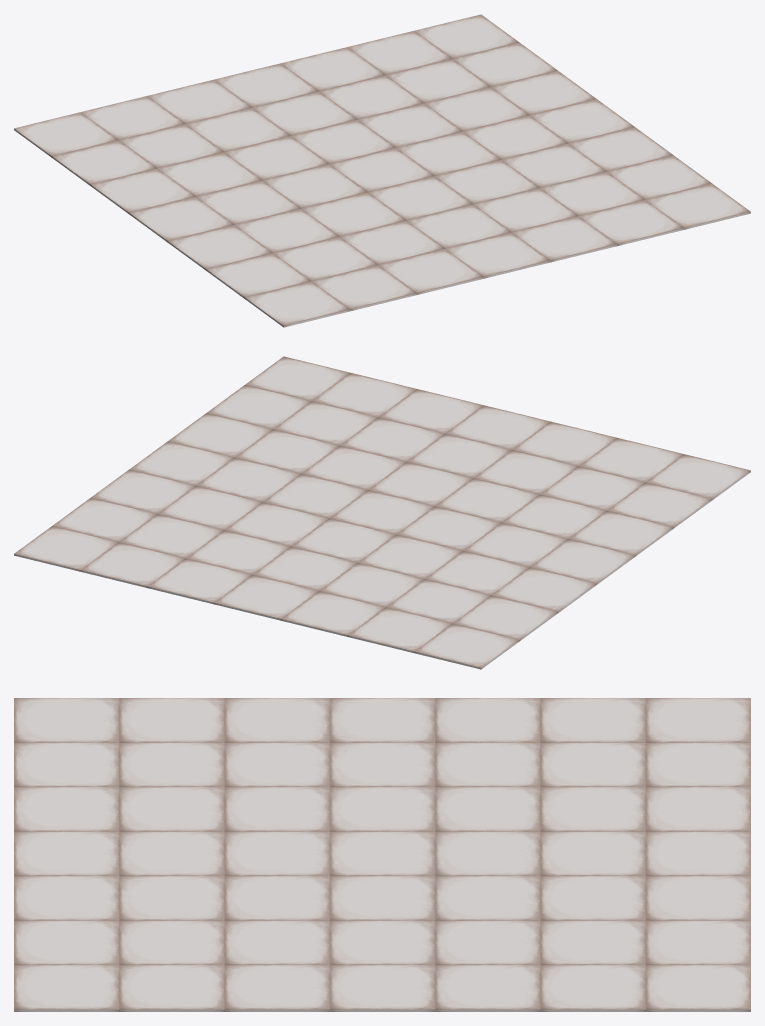
The model's file is tile49.obj.
The picture shows the model from 3 angles, top to bottom: view 1: azimuth 30°, elevation 25°; view 2: azimuth 150°, elevation 25°; view 3: azimuth 270°, elevation 25°; orthographic projection. The views are drawn at different scales.
Parts seen in each view (by area): view 1: group pasted__pCube44, group pasted__pCube29, group pasted__pCube32, group pasted__pCube28, group pasted__pCube31, group pasted__pCube38, group pasted__pCube30, group pasted__pCube41, pCube8, group pasted__pCube43, group pasted__pCube39, group pasted__pCube40 (+37 smaller); view 2: group pasted__pCube39, group pasted__pCube24, group pasted__pCube27, group pasted__pCube23, group pasted__pCube26, group pasted__pCube33, group pasted__pCube25, group pasted__pCube42, pCube8, group pasted__pCube40, group pasted__pCube41, group pasted__pCube43 (+37 smaller); view 3: group pasted__pCube33, group pasted__pCube34, group pasted__pCube35, group pasted__pCube36, group pasted__pCube37, group pasted__pCube38, pCube7, group pasted__pCube5, group pasted__pCube6, group pasted__pCube7, group pasted__pCube8, group pasted__pCube9 (+37 smaller).
Part boxes in pixels (<box>): group pasted__pCube44: <box>245,281,350,327</box>; group pasted__pCube29: <box>312,265,417,310</box>; group pasted__pCube32: <box>512,216,617,262</box>; group pasted__pCube28: <box>579,200,684,245</box>; group pasted__pCube31: <box>446,232,550,278</box>; group pasted__pCube38: <box>646,183,750,229</box>; group pasted__pCube30: <box>379,249,483,294</box>; group pasted__pCube41: <box>91,168,195,214</box>; pCube8: <box>129,197,234,242</box>; group pasted__pCube43: <box>206,253,311,298</box>; group pasted__pCube39: <box>14,112,118,157</box>; group pasted__pCube40: <box>52,140,157,185</box>; group pasted__pCube39: <box>414,623,519,669</box>; group pasted__pCube24: <box>347,607,452,652</box>; group pasted__pCube27: <box>147,558,252,604</box>; group pasted__pCube23: <box>80,542,185,587</box>; group pasted__pCube26: <box>214,574,318,620</box>; group pasted__pCube33: <box>14,525,118,571</box>; group pasted__pCube25: <box>281,591,385,636</box>; group pasted__pCube42: <box>569,510,673,556</box>; pCube8: <box>530,539,635,584</box>; group pasted__pCube40: <box>453,595,558,640</box>; group pasted__pCube41: <box>492,567,596,612</box>; group pasted__pCube43: <box>607,482,712,527</box>; group pasted__pCube33: <box>645,965,750,1011</box>; group pasted__pCube34: <box>540,965,645,1011</box>; group pasted__pCube35: <box>435,965,540,1011</box>; group pasted__pCube36: <box>224,965,329,1011</box>; group pasted__pCube37: <box>119,965,224,1011</box>; group pasted__pCube38: <box>14,965,119,1011</box>; pCube7: <box>330,965,434,1011</box>; group pasted__pCube5: <box>435,876,540,920</box>; group pasted__pCube6: <box>224,876,329,920</box>; group pasted__pCube7: <box>435,787,540,831</box>; group pasted__pCube8: <box>224,787,329,831</box>; group pasted__pCube9: <box>540,787,645,831</box>.
Bounding box in the file's own units: 7 × 0.025 × 7.
Materials: 2 (2 with a texture image).
